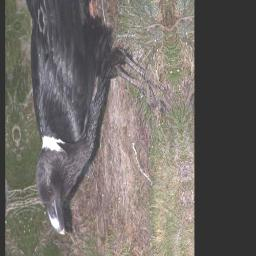Crow: (19, 0, 184, 241)
